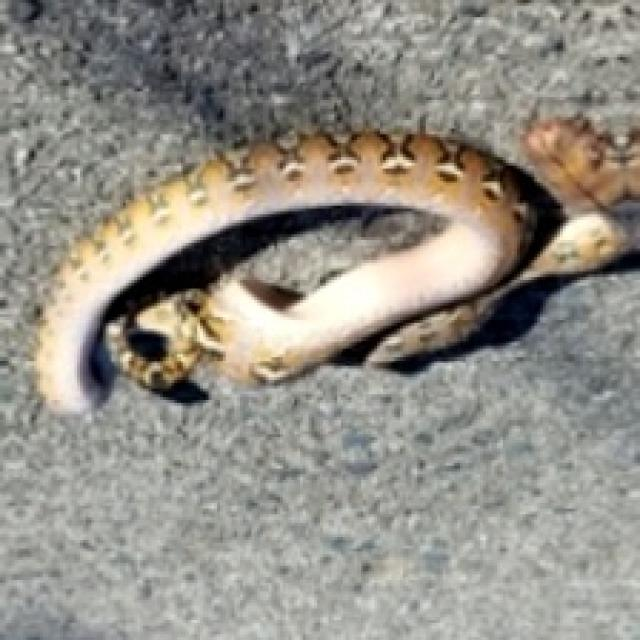reticulated python: (34, 117, 637, 411)
